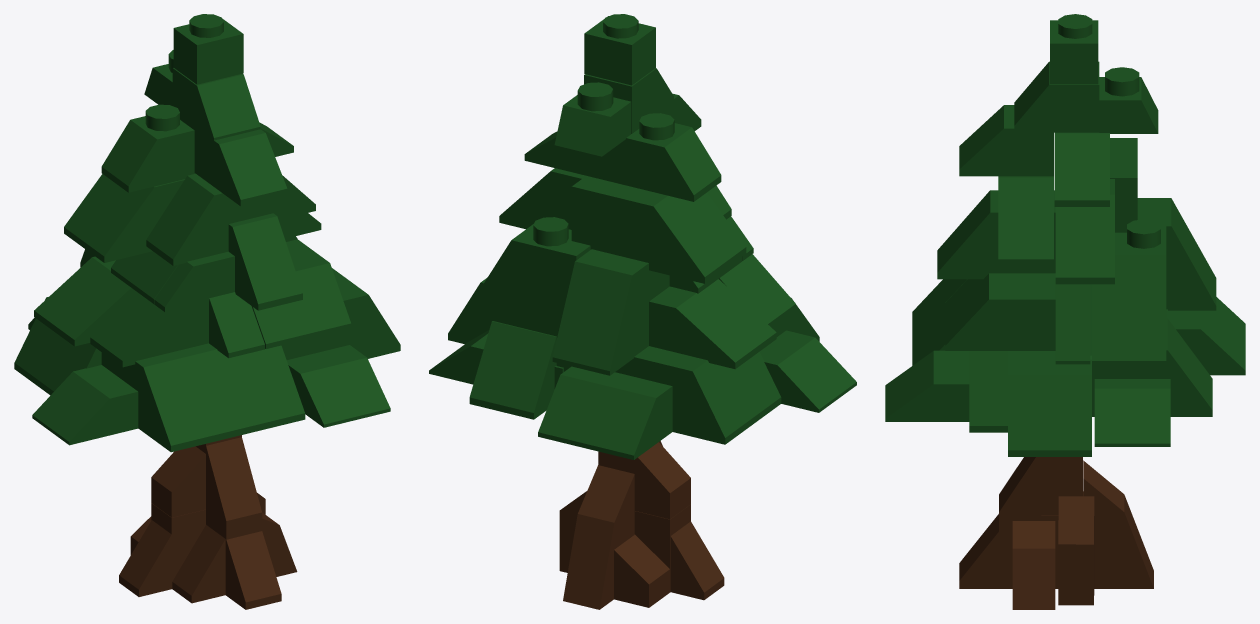
Rendered from pinetree.FBX.
3 views of the same model, side by side, from view 1: azimuth 30°, elevation 25°; view 2: azimuth 150°, elevation 25°; view 3: azimuth 270°, elevation 25° (orthographic). The views are drawn at different scales.
Visible parts, largest first — view 1: Box015; view 2: Box015; view 3: Box015.
Boxes of the visible parts, box(x1,y1,x2,y2) form: Box015: box(14, 14, 400, 609); Box015: box(429, 14, 856, 609); Box015: box(885, 14, 1245, 609).
Bounding box in the file's own units: 40.9 × 61.53 × 35.98.
1 material, 1 textured.
